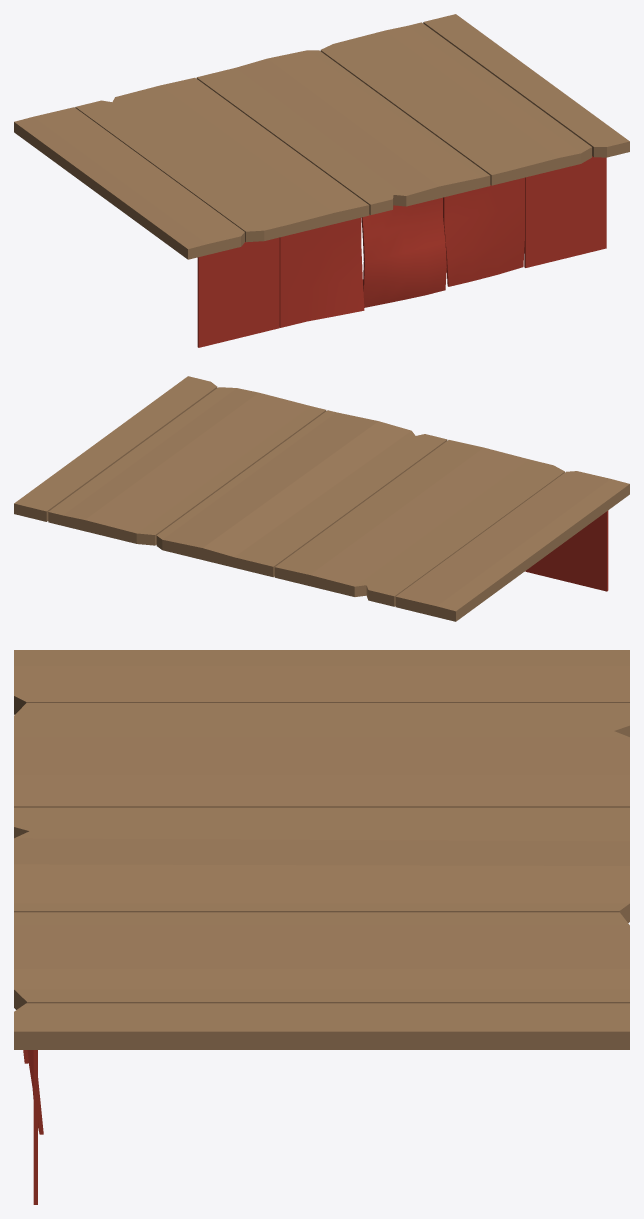
File: CobertDeFustaV2.fbx
3 views of the same model, one above another, from view 1: azimuth 30°, elevation 25°; view 2: azimuth 150°, elevation 25°; view 3: azimuth 270°, elevation 25° (orthographic). The views are drawn at different scales.
Parts seen in each view (by area): view 1: Fusta, banderitas; view 2: Fusta, banderitas; view 3: Fusta, banderitas.
Boxes of the visible parts, <box> form: Fusta: <box>14,14,629,259</box>; banderitas: <box>197,156,606,347</box>; Fusta: <box>14,376,629,621</box>; banderitas: <box>525,510,608,591</box>; Fusta: <box>14,650,629,1049</box>; banderitas: <box>23,1050,43,1204</box>.
Size of the model in its own units: 440 by 103 by 300.
